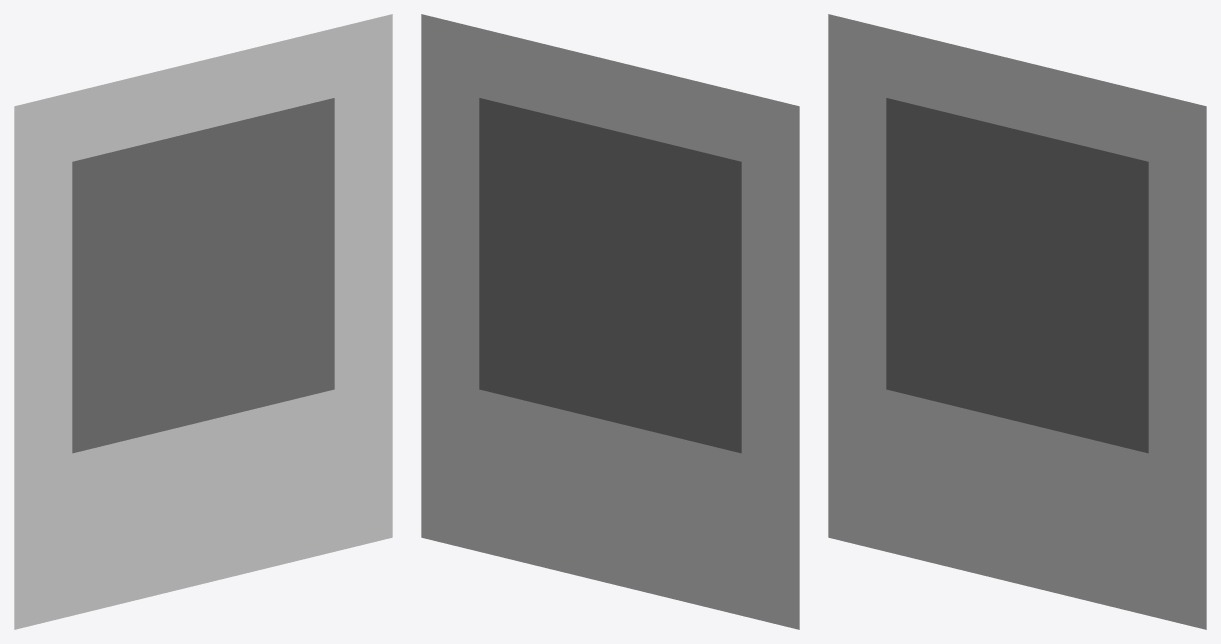
The model's file is Polaroid 1.fbx.
3 renders of one model, left to right at view 1: azimuth 30°, elevation 25°; view 2: azimuth 150°, elevation 25°; view 3: azimuth 330°, elevation 25°, orthographic.
Visible parts, largest first — view 1: Polaroid 1; view 2: Polaroid 1; view 3: Polaroid 1.
Part boxes in pixels (x1,y1,x2,y2): Polaroid 1: (14,14,392,629); Polaroid 1: (421,14,799,629); Polaroid 1: (828,14,1206,629).
Bounding box in the file's own units: 283 × 374 × 6.09e-05.
